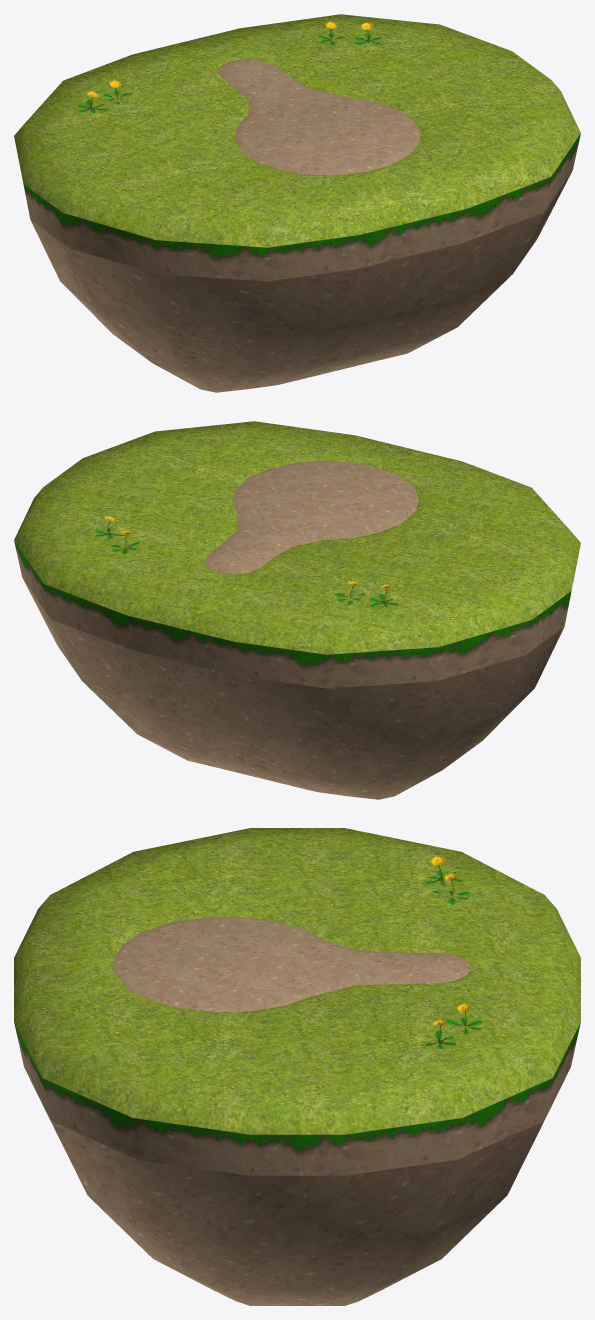
Rendered from CloudyGardenStepD.fbx.
3 views of the same model, one above another, from view 1: azimuth 30°, elevation 25°; view 2: azimuth 150°, elevation 25°; view 3: azimuth 270°, elevation 25° (orthographic). The views are drawn at different scales.
Visible parts, largest first — view 1: Plane.000, Plane.001, Plane.002, Plane.003; view 2: Plane.000, Plane.001, Plane.002, Plane.003; view 3: Plane.000, Plane.001, Plane.002, Plane.003.
Boxes of the visible parts, box(x1,y1,x2,y2) form: Plane.000: box(14, 14, 580, 247); Plane.001: box(30, 59, 571, 392); Plane.002: box(23, 133, 580, 281); Plane.003: box(77, 21, 381, 113); Plane.000: box(14, 421, 580, 654); Plane.001: box(23, 460, 564, 799); Plane.002: box(14, 540, 571, 688); Plane.003: box(95, 516, 399, 608); Plane.000: box(14, 828, 580, 1134); Plane.001: box(51, 916, 543, 1305); Plane.002: box(14, 1022, 580, 1175); Plane.003: box(425, 855, 482, 1048).
Size of the model in its own units: 145526 by 69461 by 118034.
